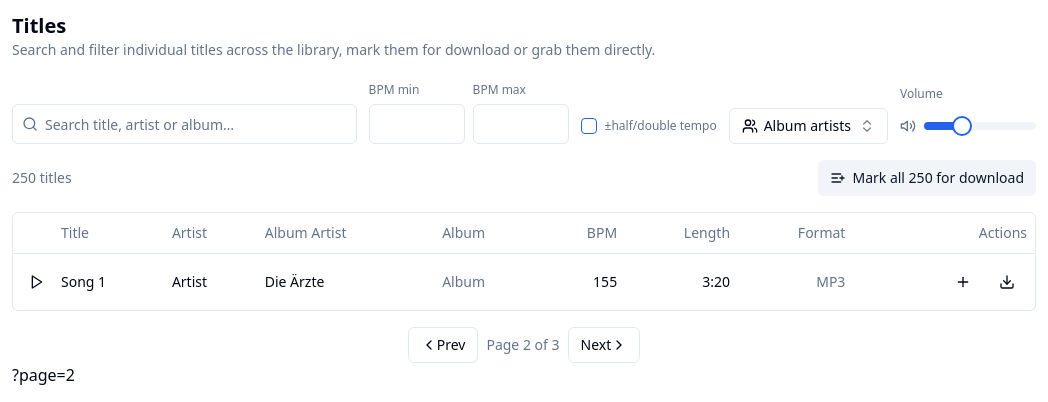
Test: LibraryTitlesPage › drops the page param when filters change (reset to page 1)
The width and height of the screenshot is (1048, 402).
Expected: the text "Page 2 of 3" is shown, [486,334,560,354]
Type "jazz" into the field named "Search titles".
click(184, 124); type("jazz")  # box [12,104,357,144]
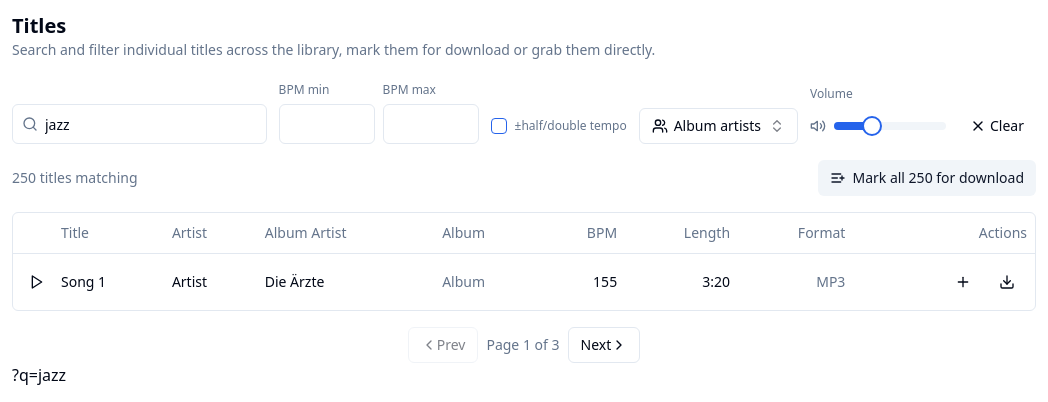
Expected: the text with test id "location-search" no longer shows "page="
Expected: the text with test id "location-search" shows "q=jazz", [12,364,66,386]
